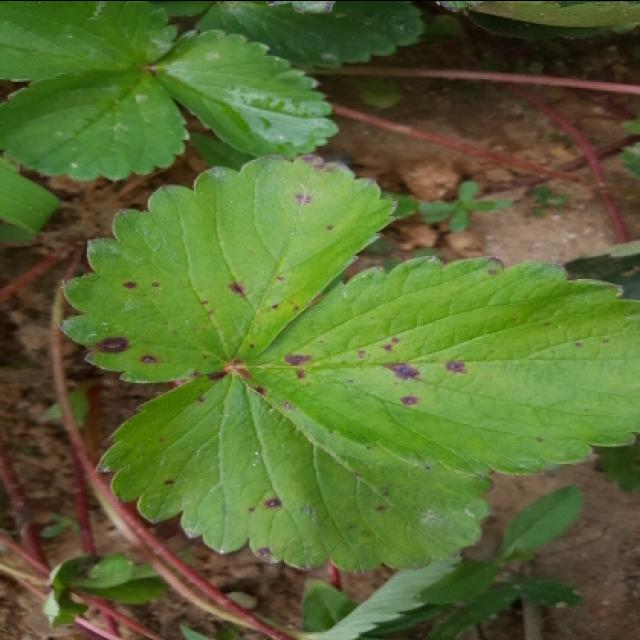Leaf Spot: (230, 252, 638, 478), (95, 366, 498, 574), (54, 149, 398, 382)
